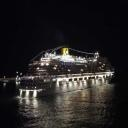cruises: (18, 43, 117, 100)
